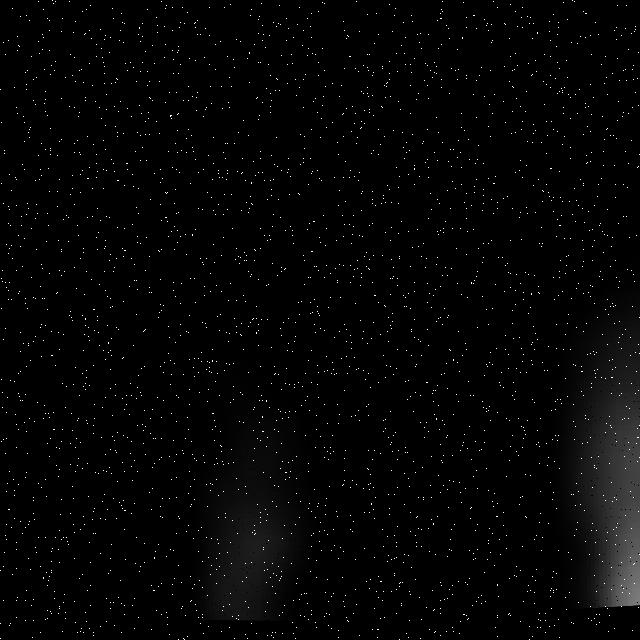person: (107, 129, 377, 635), (507, 190, 640, 618)
